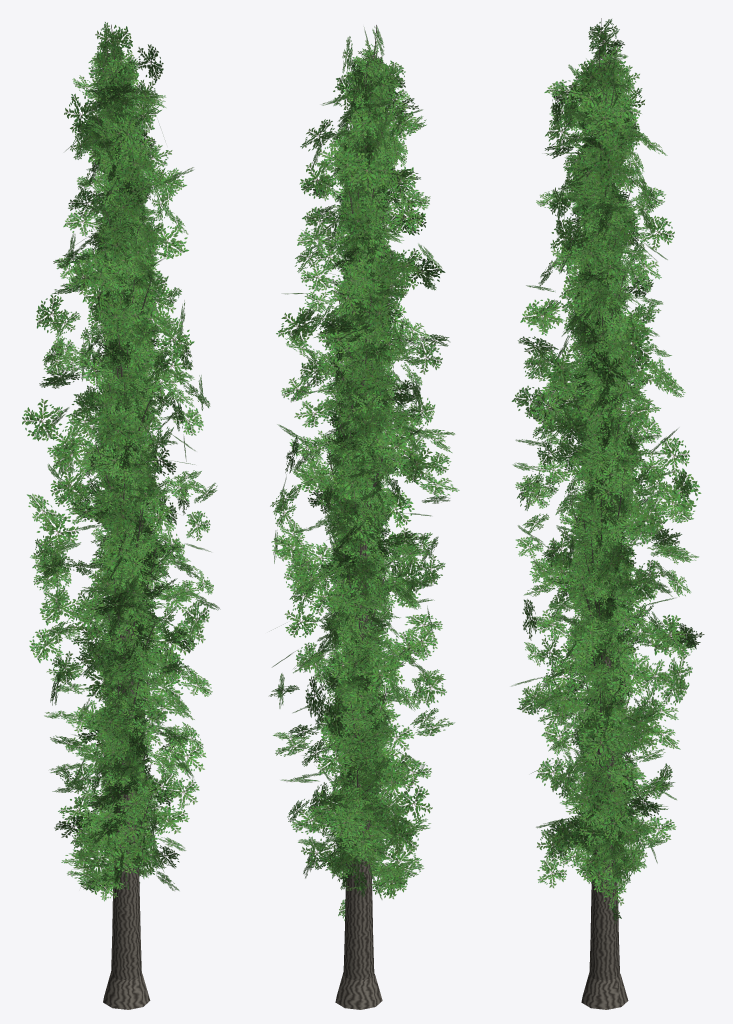
Rendered from terak_1.glb.
The picture shows the model from 3 angles, left to right: view 1: azimuth 30°, elevation 25°; view 2: azimuth 150°, elevation 25°; view 3: azimuth 270°, elevation 25°; orthographic projection.
Parts seen in each view (by area): view 1: terak_leaves, terak_bark; view 2: terak_leaves, terak_bark; view 3: terak_leaves, terak_bark.
Part boxes in pixels (bbox=[...]): terak_leaves: bbox=[22, 22, 220, 901]; terak_bark: bbox=[95, 24, 158, 1009]; terak_leaves: bbox=[269, 26, 459, 920]; terak_bark: bbox=[329, 25, 389, 1009]; terak_leaves: bbox=[511, 19, 704, 923]; terak_bark: bbox=[567, 18, 641, 1009].
Bounding box in the file's own units: 4.22 × 22.55 × 4.57.
Materials: 2 (2 with a texture image).
